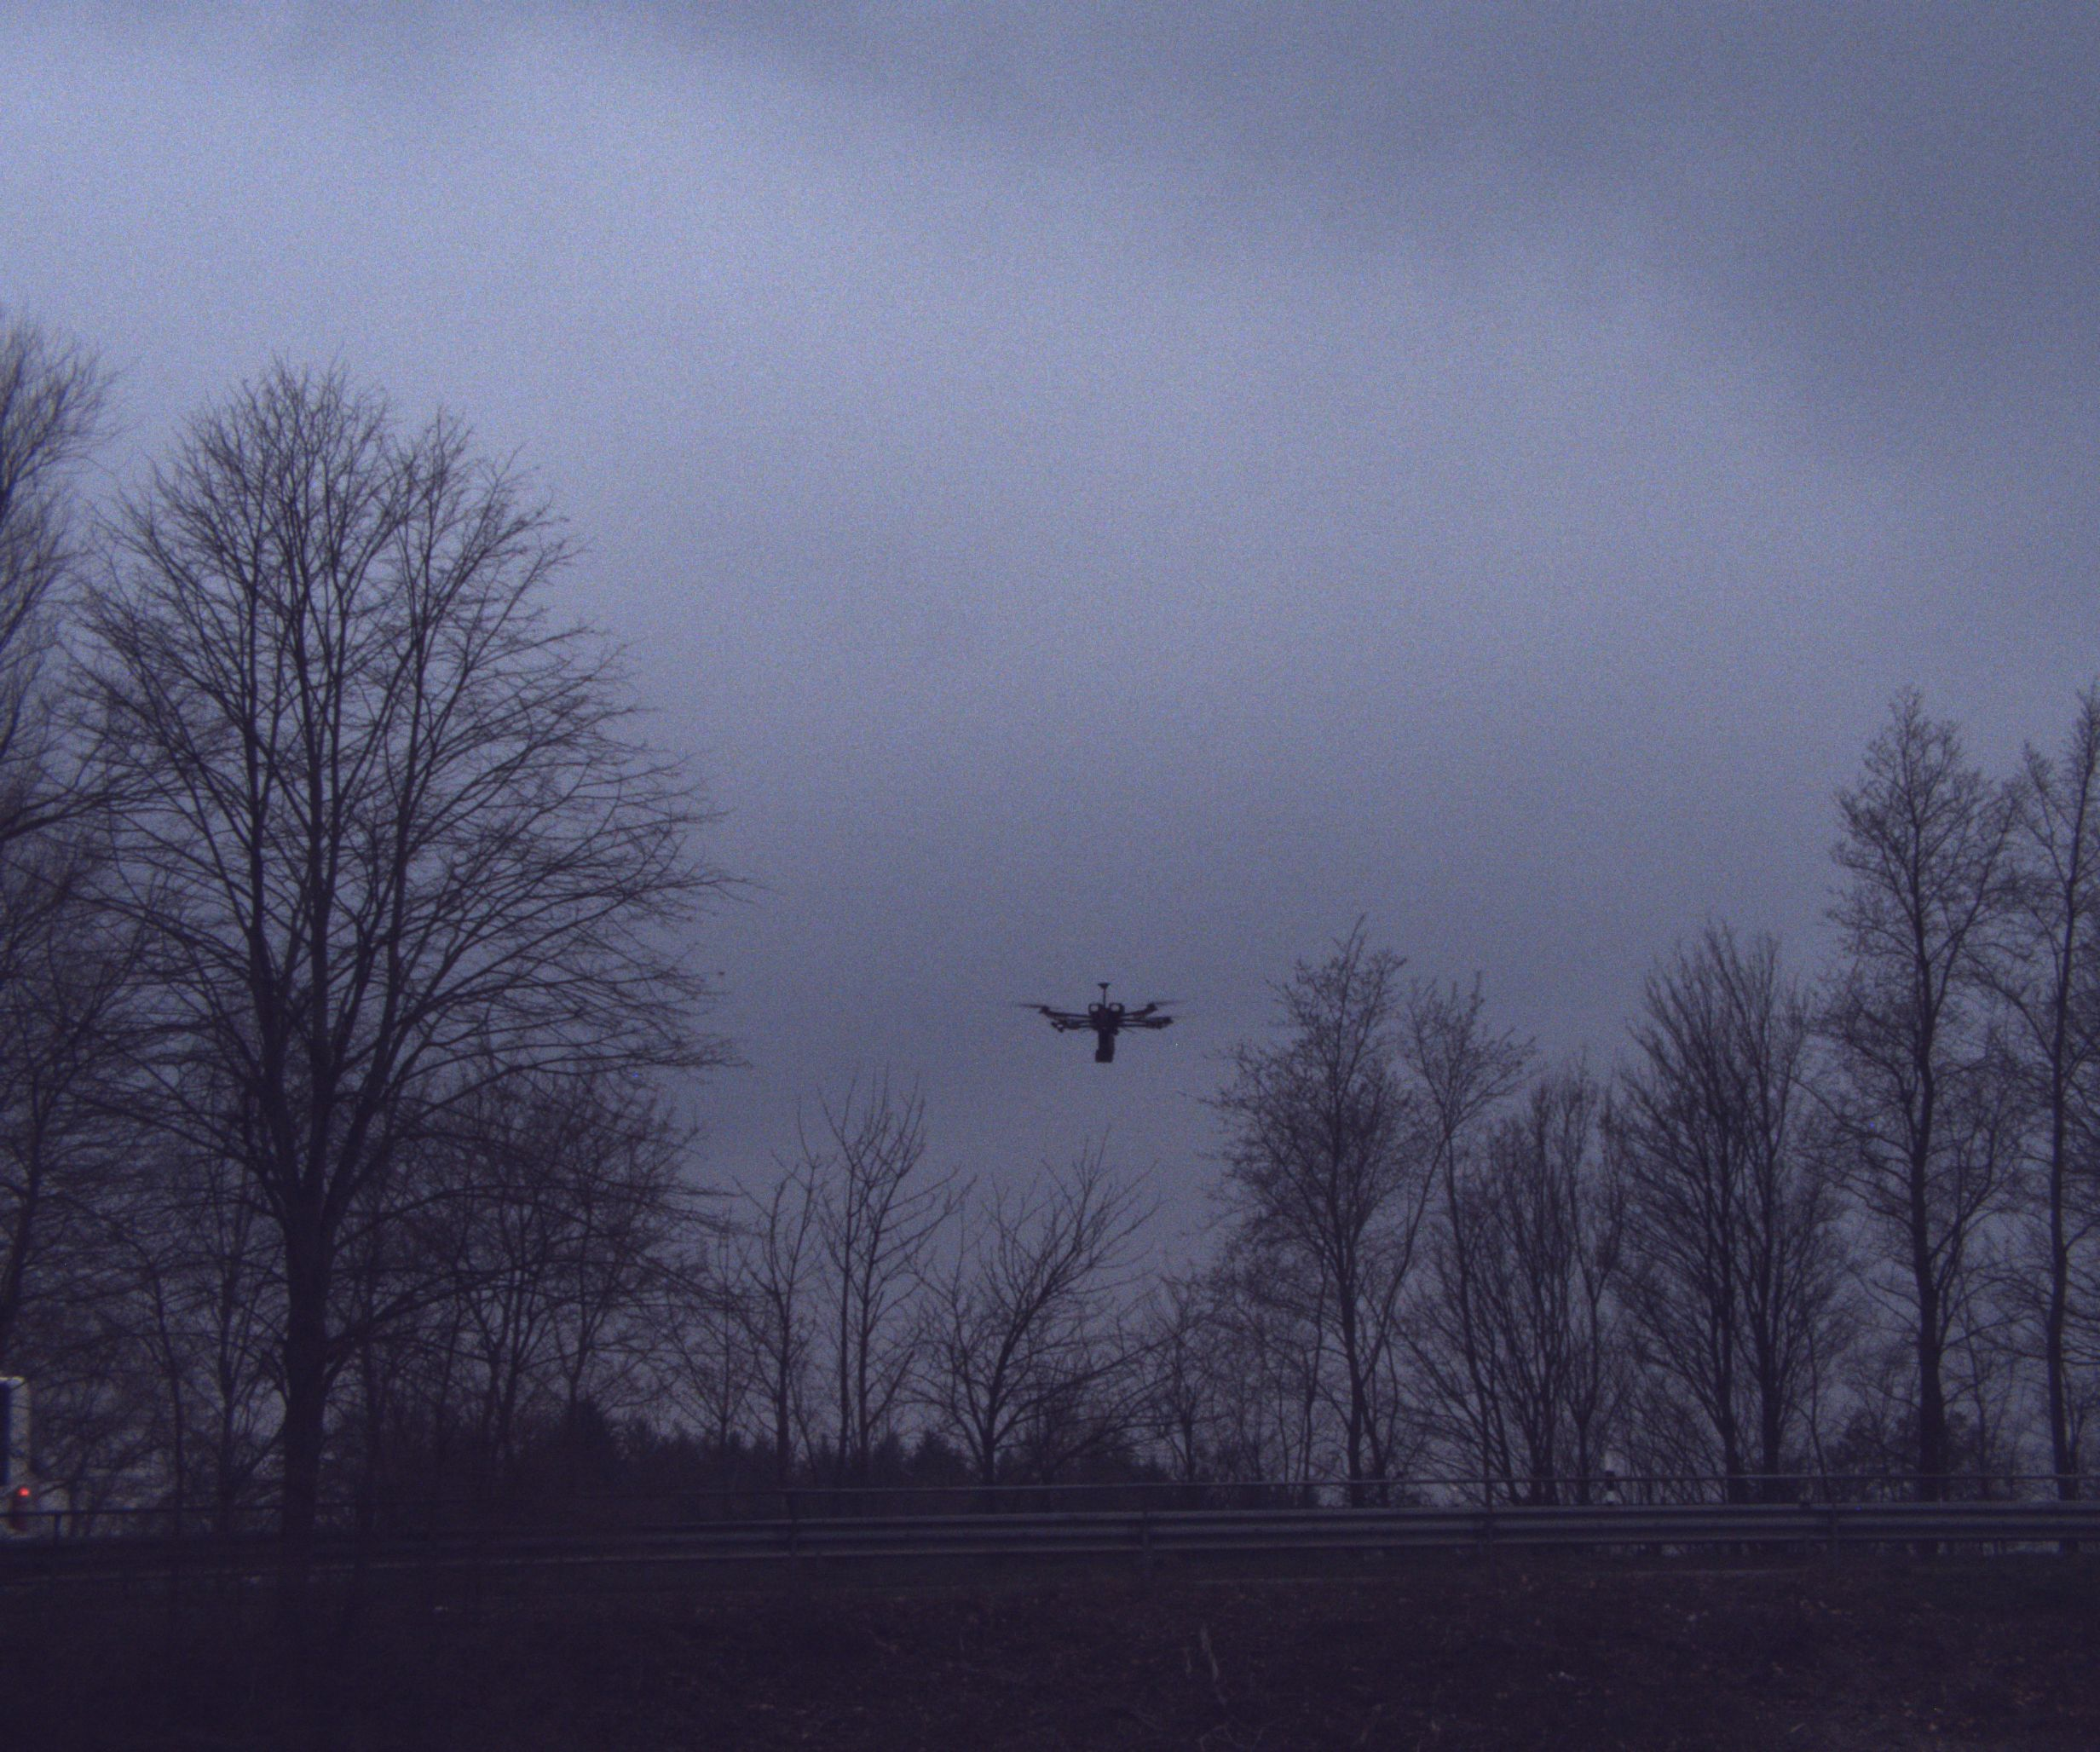Drohne: (992, 955, 1238, 1117)
